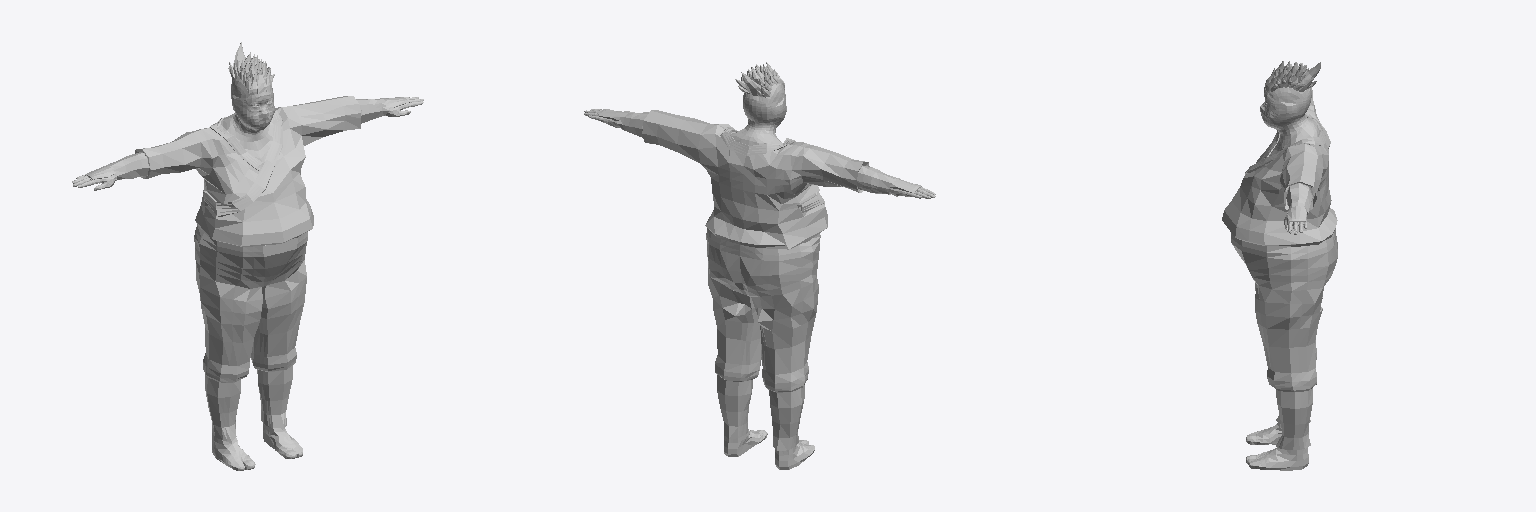
Rendered from Green Ninja.obj.
The picture shows the model from 3 angles: view 1: azimuth 30°, elevation 25°; view 2: azimuth 150°, elevation 25°; view 3: azimuth 270°, elevation 25°; orthographic projection.
Visible parts, largest first — view 1: base.obj.002; view 2: base.obj.002; view 3: base.obj.002.
Part boxes in pixels (x1,y1,x2,y2): base.obj.002: (72, 42, 423, 470); base.obj.002: (584, 62, 935, 469); base.obj.002: (1222, 61, 1337, 470).
Size of the model in its own units: 56.79 by 61.15 by 16.3.